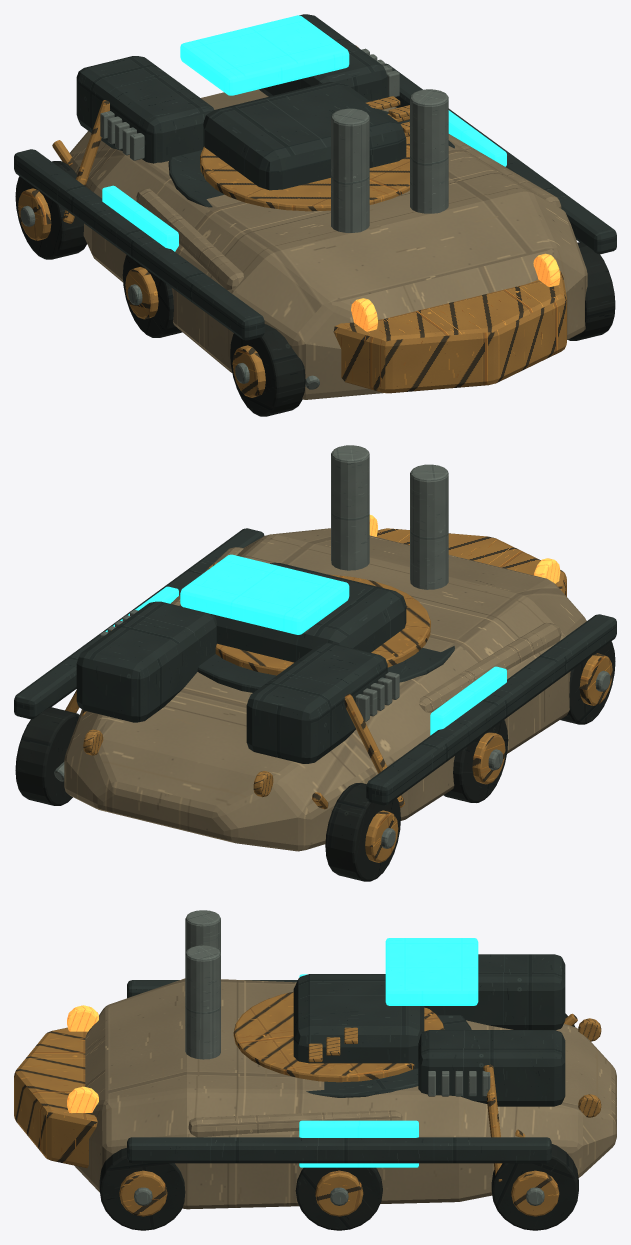
The model's file is drift_raider.glb.
3 renders of one model, top to bottom at view 1: azimuth 30°, elevation 25°; view 2: azimuth 150°, elevation 25°; view 3: azimuth 270°, elevation 25°, orthographic. The views are drawn at different scales.
Visible parts, largest first — view 1: Wanderpakt · low angular field chassis, Faction detail · Vehicle / dark.003, Ramming prow, Faction detail · Vehicle / dark.001, Faction detail · Vehicle / rubber.003, Faction detail · Vehicle / steel.001, TeamColor, Indexed azimuth bearing, Faction detail · Vehicle / hazard.003, Faction detail · Vehicle / armor_light.003, TeamColor flank details, Faction detail · Vehicle / steel.003 (+2 smaller); view 2: Wanderpakt · low angular field chassis, Faction detail · Vehicle / dark.003, Faction detail · Vehicle / rubber.003, Faction detail · Vehicle / dark.001, Faction detail · Vehicle / steel.001, TeamColor, Faction detail · Vehicle / hazard.003, Indexed azimuth bearing, Faction detail · Vehicle / armor_light.003, Ramming prow, Faction detail · Vehicle / steel.003, TeamColor flank details (+2 smaller); view 3: Wanderpakt · low angular field chassis, Faction detail · Vehicle / dark.003, Faction detail · Vehicle / dark.001, Faction detail · Vehicle / rubber.003, Ramming prow, TeamColor, Indexed azimuth bearing, Faction detail · Vehicle / hazard.003, Faction detail · Vehicle / steel.001, Faction detail · Vehicle / armor_light.003, TeamColor flank details, Faction detail · Vehicle / steel.003 (+3 smaller).
Boxes of the visible parts, bbox=[...] form: Wanderpakt · low angular field chassis: bbox=[70, 89, 587, 399]; Faction detail · Vehicle / dark.003: bbox=[14, 14, 616, 340]; Ramming prow: bbox=[333, 271, 566, 393]; Faction detail · Vehicle / dark.001: bbox=[168, 82, 454, 207]; Faction detail · Vehicle / rubber.003: bbox=[15, 161, 615, 416]; Faction detail · Vehicle / steel.001: bbox=[331, 89, 448, 232]; TeamColor: bbox=[180, 15, 349, 95]; Indexed azimuth bearing: bbox=[200, 136, 409, 211]; Faction detail · Vehicle / hazard.003: bbox=[18, 45, 358, 397]; Faction detail · Vehicle / armor_light.003: bbox=[136, 134, 561, 289]; TeamColor flank details: bbox=[102, 110, 506, 251]; Faction detail · Vehicle / steel.003: bbox=[20, 48, 399, 389]; Wanderpakt · low angular field chassis: bbox=[64, 528, 586, 851]; Faction detail · Vehicle / dark.003: bbox=[14, 528, 616, 805]; Faction detail · Vehicle / rubber.003: bbox=[15, 641, 615, 881]; Faction detail · Vehicle / dark.001: bbox=[181, 562, 454, 692]; Faction detail · Vehicle / steel.001: bbox=[331, 445, 448, 589]; TeamColor: bbox=[180, 554, 349, 634]; Faction detail · Vehicle / hazard.003: bbox=[65, 630, 612, 862]; Indexed azimuth bearing: bbox=[215, 574, 430, 675]; Faction detail · Vehicle / armor_light.003: bbox=[170, 547, 561, 712]; Ramming prow: bbox=[376, 528, 566, 596]; Faction detail · Vehicle / steel.003: bbox=[54, 609, 610, 848]; TeamColor flank details: bbox=[105, 586, 506, 735]; Wanderpakt · low angular field chassis: bbox=[74, 978, 616, 1209]; Faction detail · Vehicle / dark.003: bbox=[127, 954, 565, 1163]; Faction detail · Vehicle / dark.001: bbox=[293, 974, 471, 1097]; Faction detail · Vehicle / rubber.003: bbox=[99, 1013, 578, 1230]; Ramming prow: bbox=[14, 1027, 97, 1167]; TeamColor: bbox=[385, 938, 478, 1005]; Indexed azimuth bearing: bbox=[233, 992, 444, 1082]; Faction detail · Vehicle / hazard.003: bbox=[119, 1013, 577, 1216]; Faction detail · Vehicle / steel.001: bbox=[185, 910, 220, 1059]; Faction detail · Vehicle / armor_light.003: bbox=[188, 1110, 402, 1137]; TeamColor flank details: bbox=[299, 974, 418, 1167]; Faction detail · Vehicle / steel.003: bbox=[134, 1071, 544, 1205].
Size of the model in its own units: 2 by 1.24 by 3.05.
9 materials, 9 textured.
